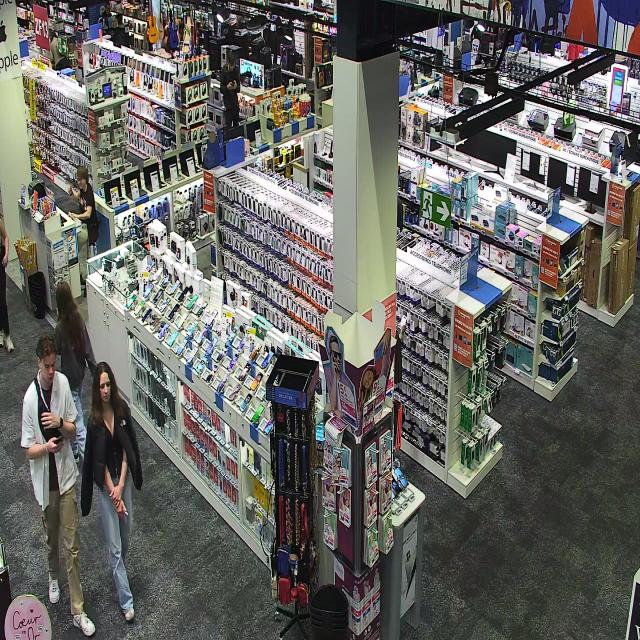bags: (34, 377, 62, 442)
hands: (41, 412, 60, 429), (109, 485, 122, 506), (47, 437, 64, 453), (115, 499, 127, 518), (68, 185, 73, 193), (70, 213, 77, 218)
person: (21, 334, 95, 636), (81, 362, 142, 621), (55, 281, 96, 461), (68, 166, 99, 256), (81, 254, 86, 279)
